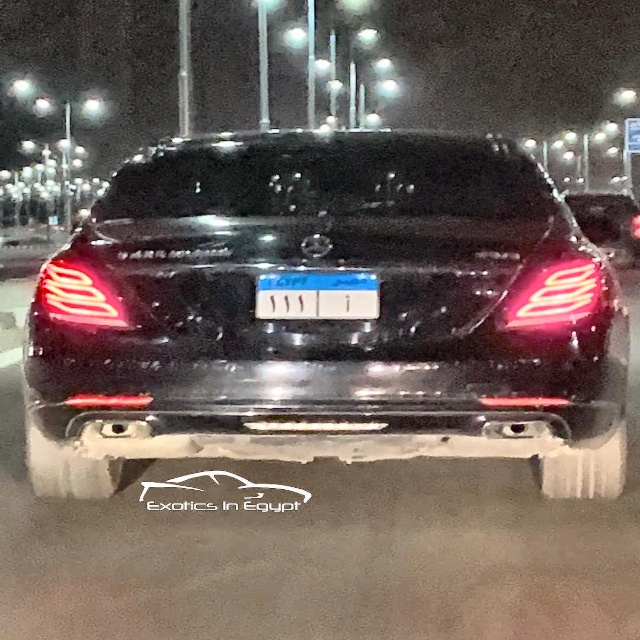License Plate: (254, 271, 382, 321)
